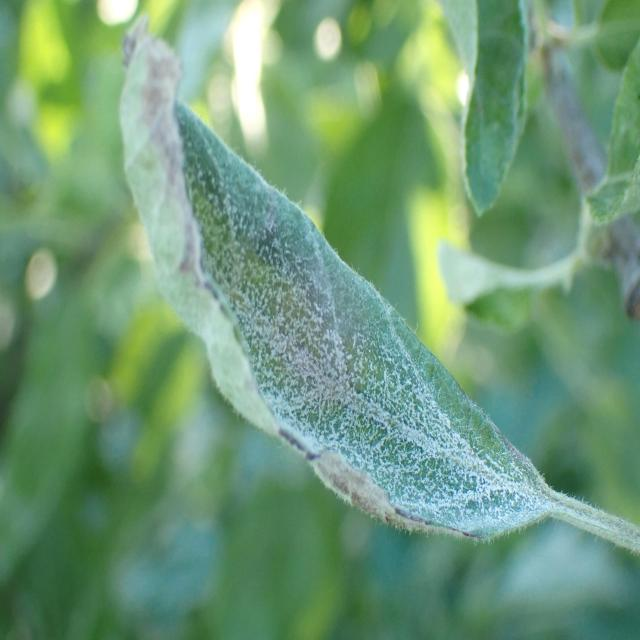Powdery_mildew: (109, 0, 640, 570)
